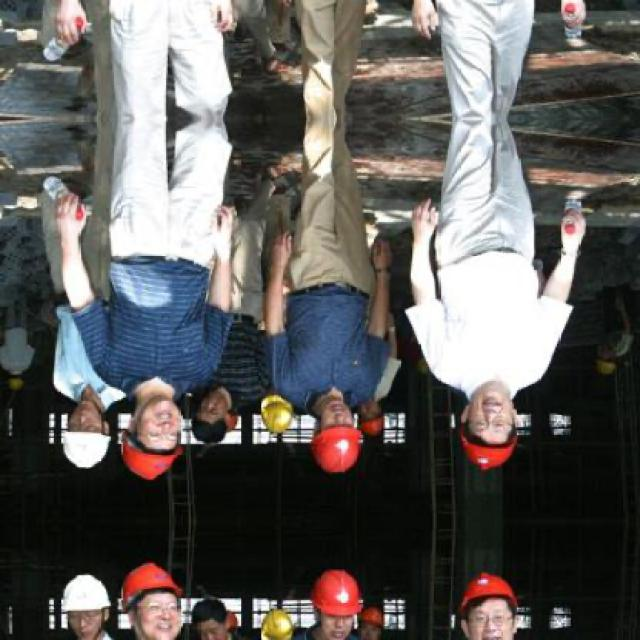con casco: (455, 560, 529, 640), (99, 425, 183, 491), (37, 578, 129, 628), (303, 574, 379, 634), (118, 565, 184, 628), (60, 414, 119, 472), (453, 411, 511, 468), (314, 430, 365, 480), (267, 594, 320, 640), (206, 592, 255, 638), (368, 599, 396, 622)
